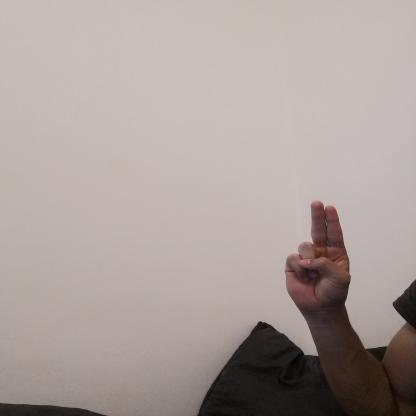TA: (274, 193, 361, 316)
